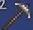pickaxe: (1, 1, 33, 30)
